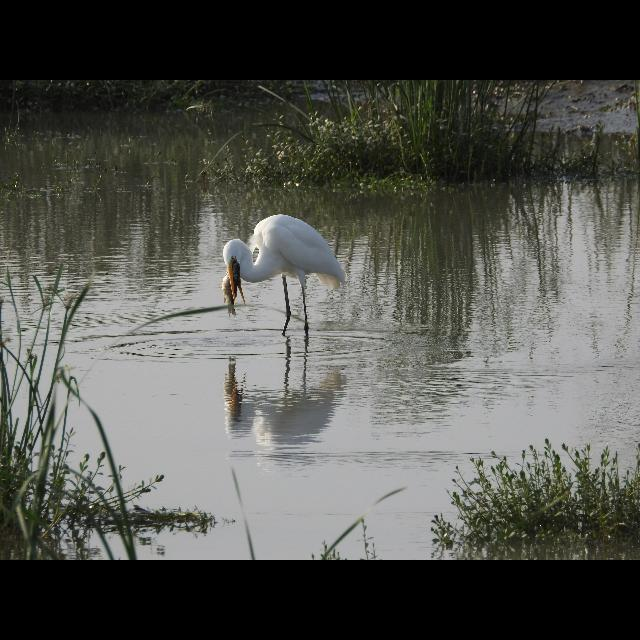egret: (210, 204, 354, 344)
